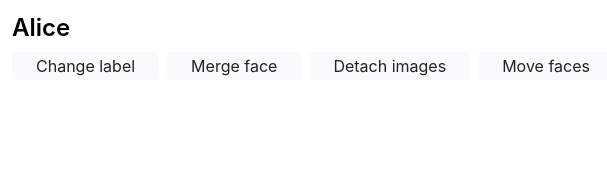
Test: FaceGroupTitle › label editing › clicking "Change label" enters edit mode and shows current label in the input
Click the button "Change label" at (86, 66), box [12,52,159,80]
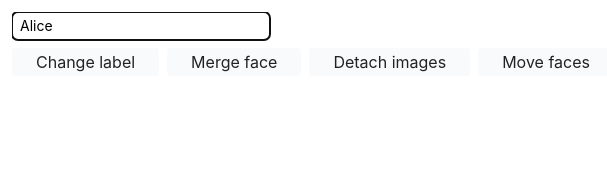
Result: the field holds "Alice" at [12,12,270,40]
